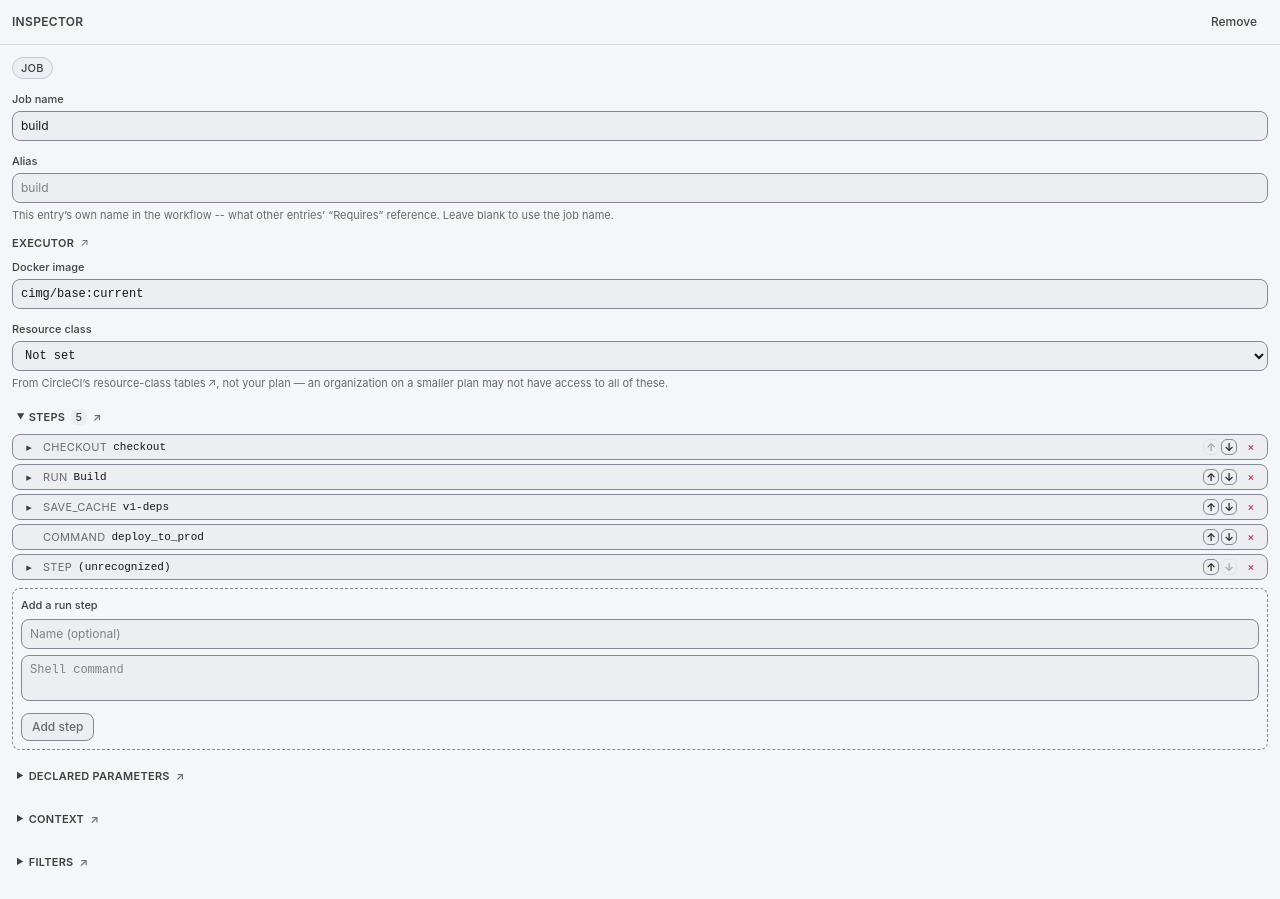
Test case: Inspector -- editing existing step fields (issue #48) › an unrecognized (multi-key) step shows an honest, non-destructive notice instead of silently dropping keys
This screenshot has width=1280, height=899.
Click the button named "expand (unrecognized)".
click(29, 567)  # box [21,559,37,575]
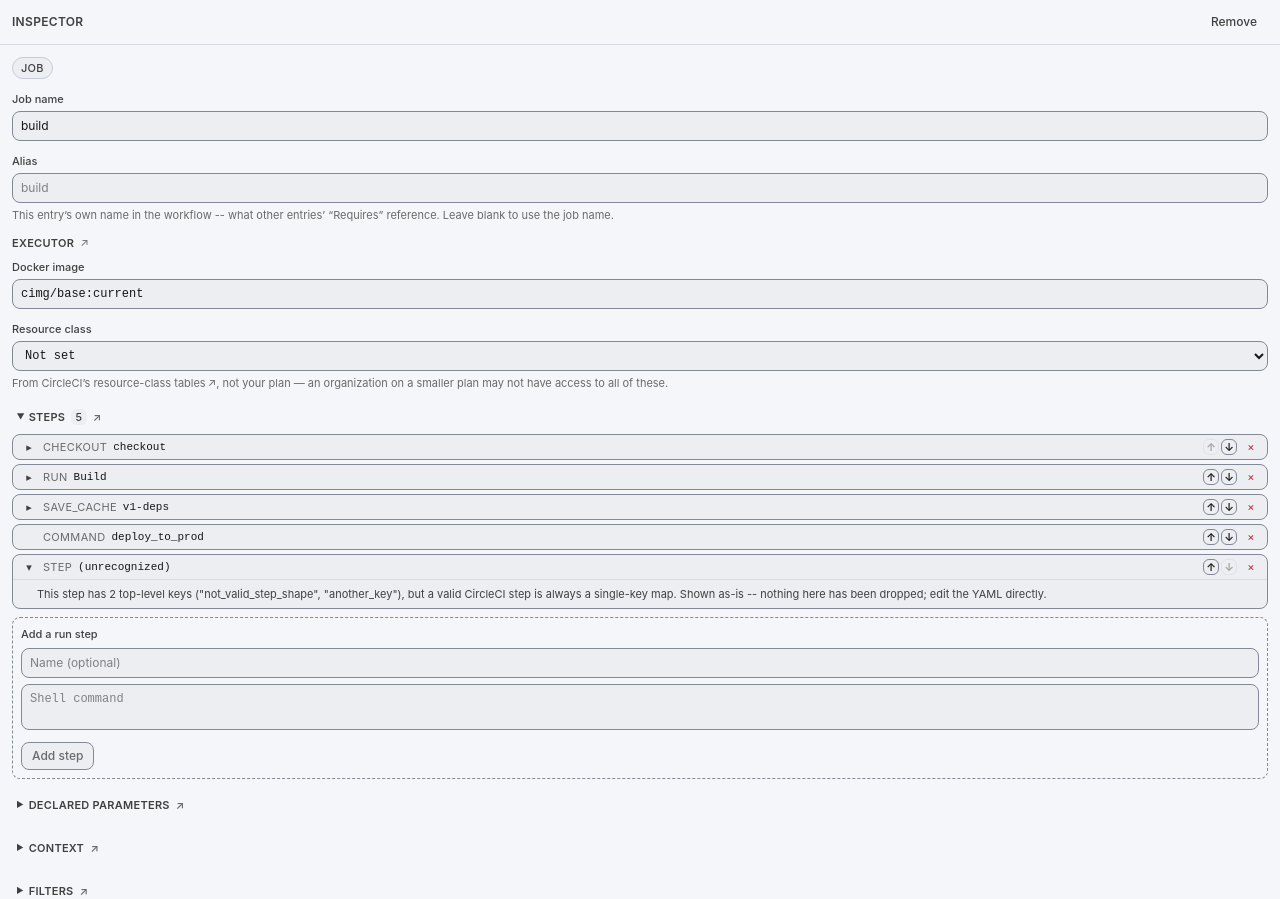
expect the text "not_valid_step_shape" is shown: met, box [37,587,1047,601]
